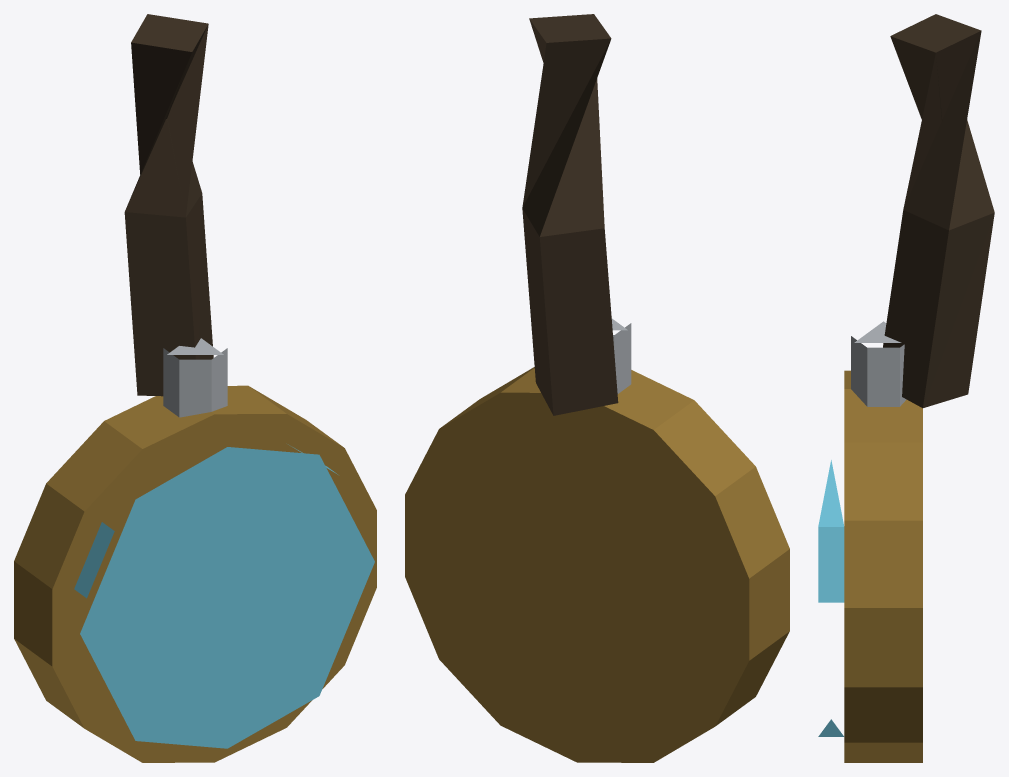
File: chronometer.lod.glb
3 views of the same model, side by side, from view 1: azimuth 30°, elevation 25°; view 2: azimuth 150°, elevation 25°; view 3: azimuth 270°, elevation 25° (orthographic). The views are drawn at different scales.
Parts seen in each view (by area): view 1: m; view 2: m; view 3: m.
Part boxes in pixels (x1,y1,x2,y2): m: [14, 14, 376, 762]; m: [405, 14, 789, 762]; m: [818, 14, 994, 762].
Size of the model in its own units: 0.0631 by 0.13 by 0.0291.
